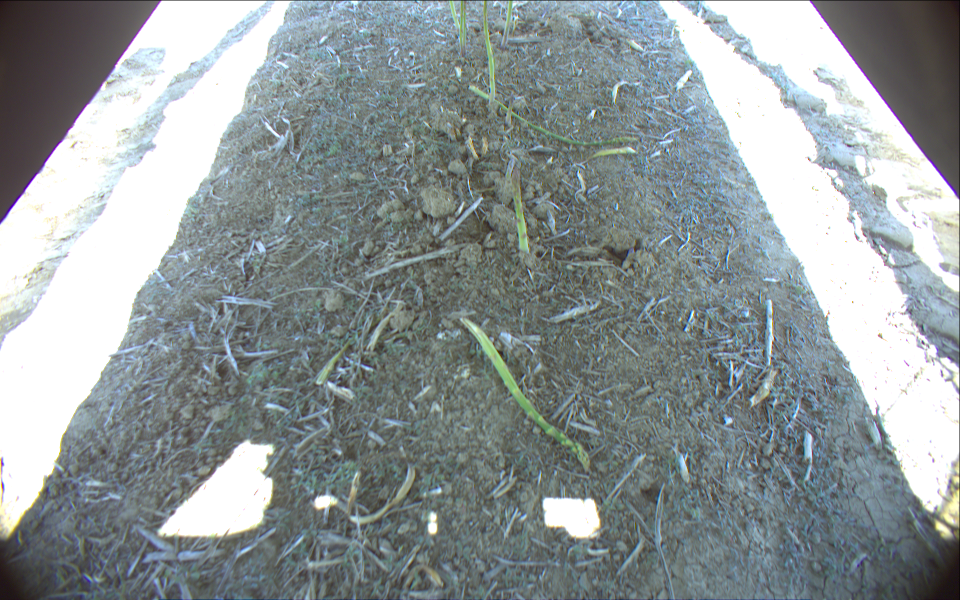aspa: (509, 162, 531, 258), (480, 1, 497, 112), (499, 1, 517, 48), (459, 1, 469, 58)
